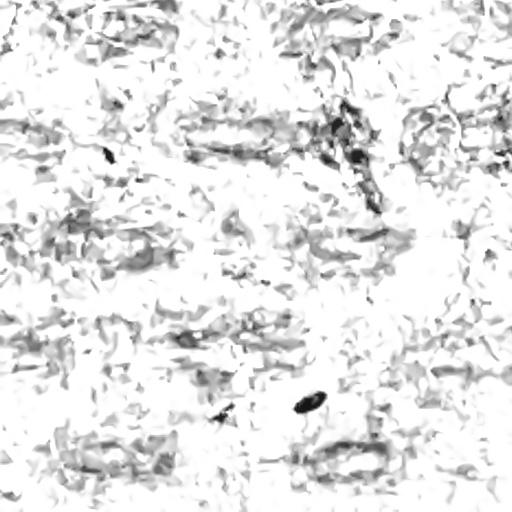egg: (293, 391, 326, 413), (209, 402, 234, 423), (367, 197, 380, 214), (330, 117, 343, 134), (103, 147, 115, 164)
